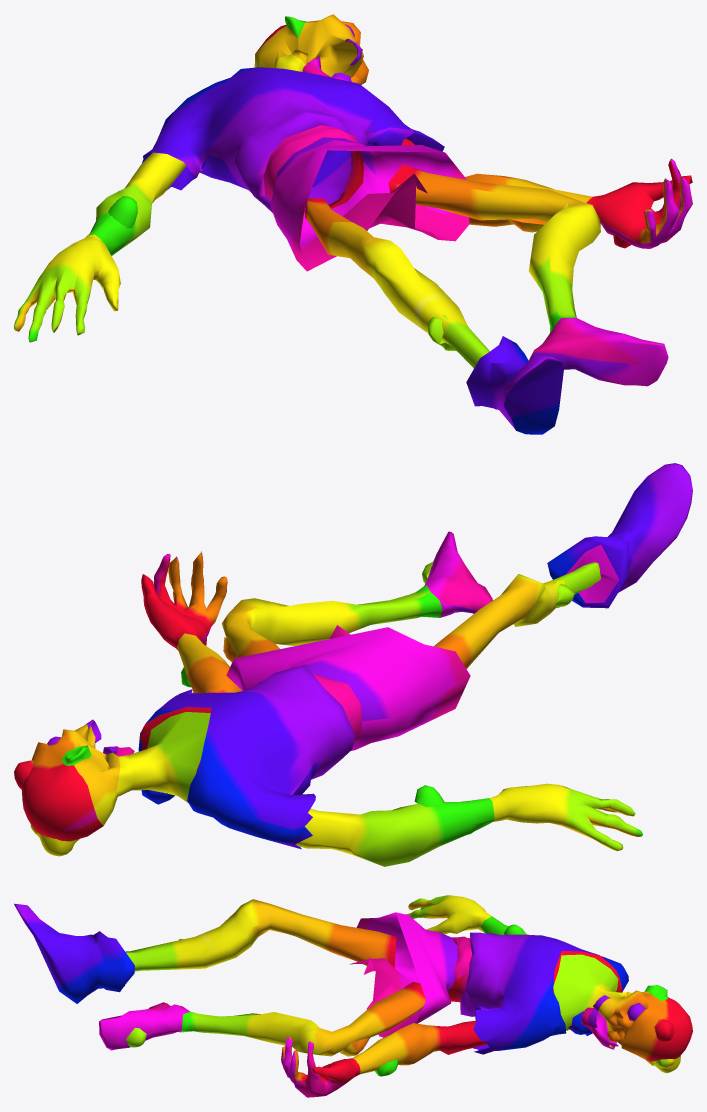
File: CH_type_name_number_19G4.fbx
The picture shows the model from 3 angles, top to bottom: view 1: azimuth 30°, elevation 25°; view 2: azimuth 150°, elevation 25°; view 3: azimuth 270°, elevation 25°; orthographic projection. The views are drawn at different scales.
Visible parts, largest first — view 1: EN_P_Corpse_01_17G3; view 2: EN_P_Corpse_01_17G3; view 3: EN_P_Corpse_01_17G3.
Boxes of the visible parts, x1=… form: EN_P_Corpse_01_17G3: x1=14, y1=14, x2=692, y2=434; EN_P_Corpse_01_17G3: x1=14, y1=463, x2=692, y2=866; EN_P_Corpse_01_17G3: x1=14, y1=895, x2=692, y2=1097.
Bounding box in the file's own units: 142 × 32.46 × 192.
